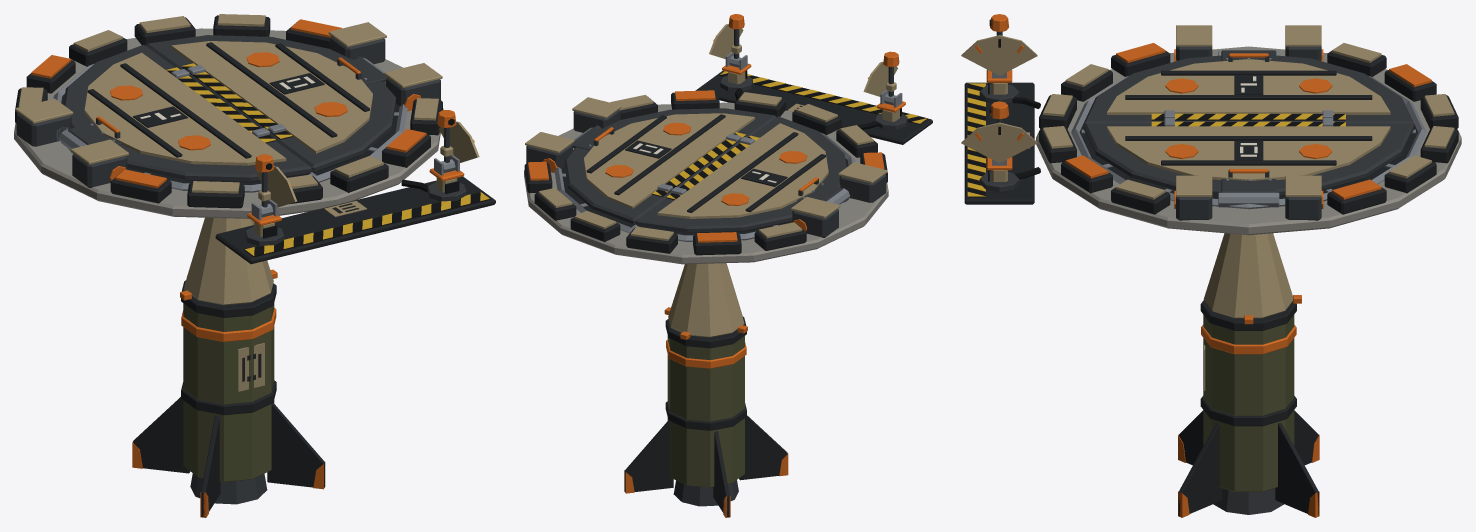
Rendered from missile_silo.fbx.
3 renders of one model, left to right at view 1: azimuth 30°, elevation 25°; view 2: azimuth 150°, elevation 25°; view 3: azimuth 270°, elevation 25°, orthographic. The views are drawn at different scales.
Visible parts, largest first — view 1: Body, Missile, Door_L, Door_R, Lever_R, Lever_L; view 2: Body, Missile, Door_R, Door_L, Lever_L, Lever_R; view 3: Body, Missile, Door_L, Door_R.
Part boxes in pixels (<box>): Body: <box>14,14,495,264</box>; Missile: <box>132,217,325,517</box>; Door_L: <box>146,35,395,172</box>; Door_R: <box>59,44,311,182</box>; Lever_R: <box>255,154,273,217</box>; Lever_L: <box>437,110,456,172</box>; Body: <box>524,24,932,264</box>; Missile: <box>624,263,788,517</box>; Door_R: <box>635,116,849,233</box>; Door_L: <box>564,108,776,225</box>; Lever_L: <box>728,14,744,67</box>; Lever_R: <box>883,51,899,105</box>; Body: <box>961,25,1461,235</box>; Missile: <box>1178,233,1319,517</box>; Door_L: <box>1083,118,1413,207</box>; Door_R: <box>1083,50,1413,124</box>.
Bounding box in the file's own units: 14 × 15.9 × 16.46.
Materials: 6 (6 with a texture image).
